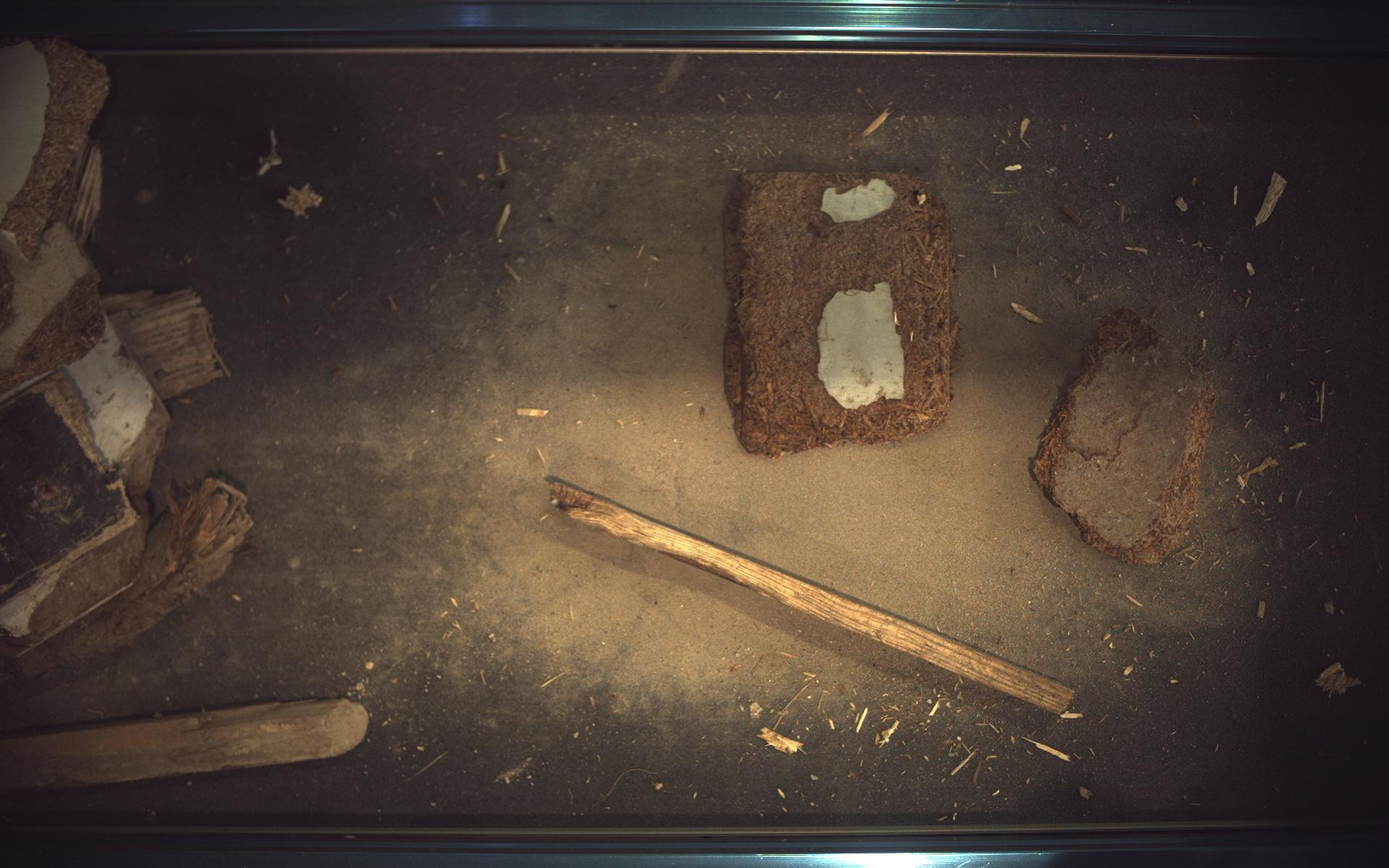wood: (547, 476, 1076, 715), (726, 171, 960, 456), (1035, 309, 1217, 564)
